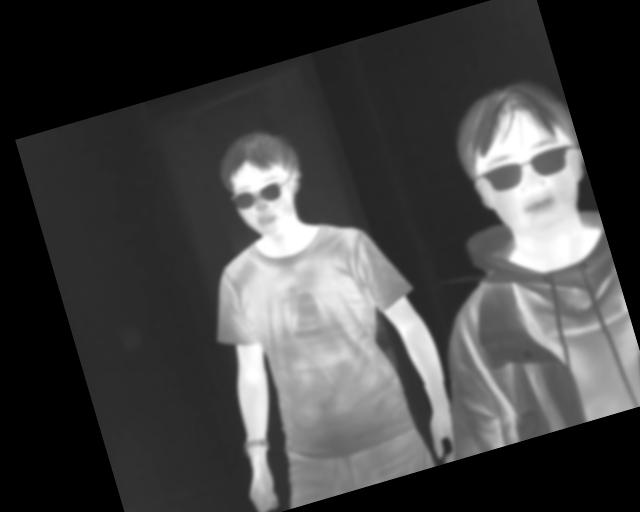face: (444, 68, 601, 254), (211, 121, 316, 244)
